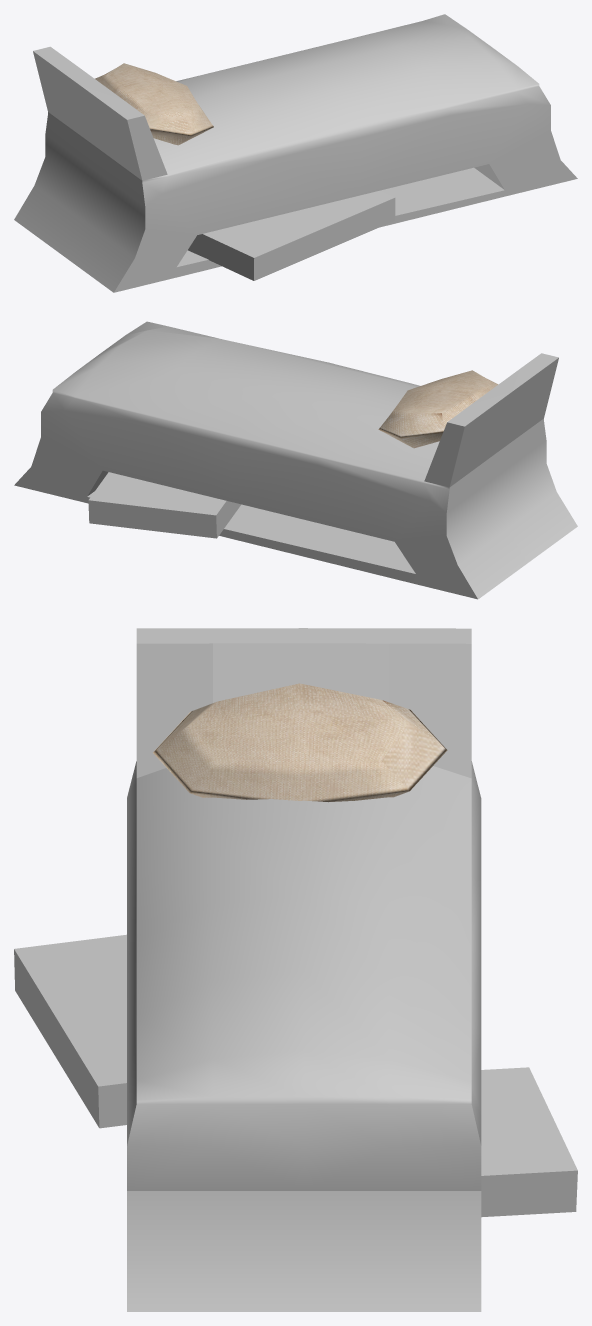
The model's file is bed_2.fbx.
3 views of the same model, one above another, from view 1: azimuth 30°, elevation 25°; view 2: azimuth 150°, elevation 25°; view 3: azimuth 270°, elevation 25° (orthographic). The views are drawn at different scales.
Visible parts, largest first — view 1: bed_2; view 2: bed_2; view 3: bed_2.
Boxes of the visible parts, x1=… form: bed_2: x1=14, y1=14, x2=577, y2=292; bed_2: x1=14, y1=321, x2=577, y2=599; bed_2: x1=14, y1=628, x2=577, y2=1311.
Bounding box in the file's own units: 244 × 83.82 × 144.
